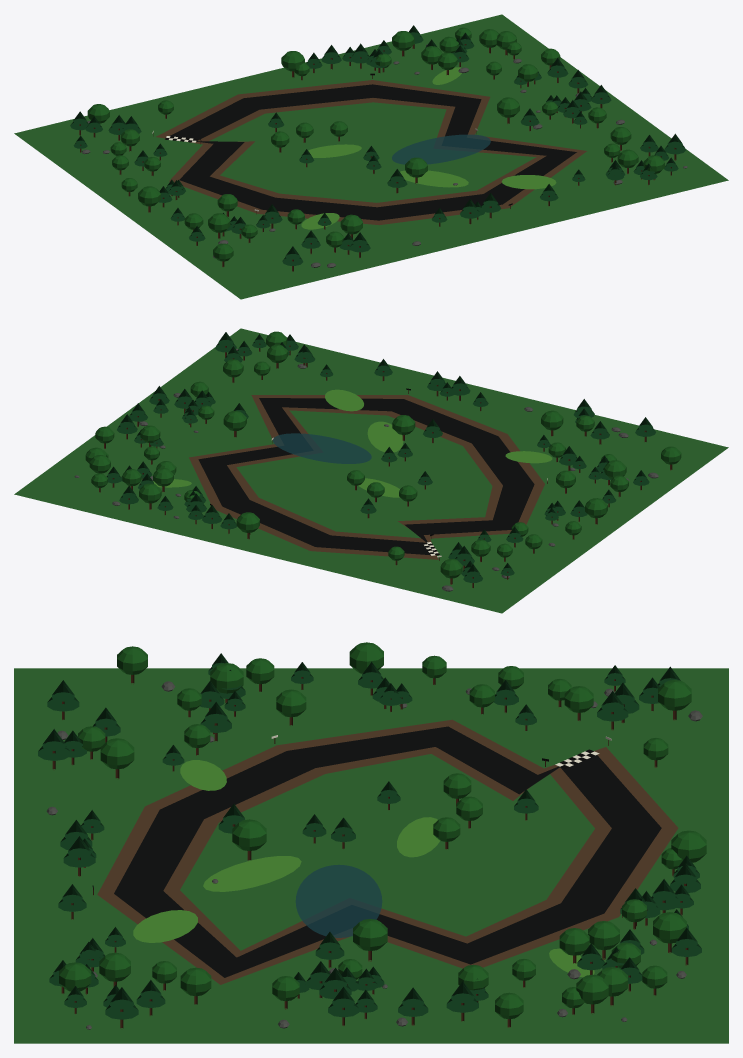
Rendered from ForestRaceTrackMap.obj.
3 views of the same model, one above another, from view 1: azimuth 30°, elevation 25°; view 2: azimuth 150°, elevation 25°; view 3: azimuth 270°, elevation 25° (orthographic). The views are drawn at different scales.
Visible parts, largest first — view 1: Forest_Ground, Asphalt_Winding_Circuit, Packed_Dirt_Shoulders, Forest_Pond, Moss_Patch_04, Moss_Patch_02, Moss_Patch_01; view 2: Forest_Ground, Asphalt_Winding_Circuit, Packed_Dirt_Shoulders, Forest_Pond, Moss_Patch_04, Moss_Patch_02; view 3: Forest_Ground, Asphalt_Winding_Circuit, Packed_Dirt_Shoulders, Forest_Pond, Moss_Patch_04, Moss_Patch_02, Moss_Patch_01, Moss_Patch_03, Tree_093_Leaf_Canopy, Tree_091_Leaf_Canopy, Tree_043_Leaf_Canopy, Tree_089_Leaf_Canopy (+13 smaller).
Boxes of the visible parts, <box> form: Forest_Ground: <box>14,14,728,299</box>; Asphalt_Winding_Circuit: <box>170,84,576,220</box>; Packed_Dirt_Shoulders: <box>156,80,586,225</box>; Forest_Pond: <box>392,134,490,164</box>; Moss_Patch_04: <box>400,170,468,187</box>; Moss_Patch_02: <box>501,175,556,189</box>; Moss_Patch_01: <box>303,144,361,157</box>; Forest_Ground: <box>14,328,728,613</box>; Asphalt_Winding_Circuit: <box>198,398,534,555</box>; Packed_Dirt_Shoulders: <box>189,395,544,559</box>; Forest_Pond: <box>272,433,371,463</box>; Moss_Patch_04: <box>367,421,403,452</box>; Moss_Patch_02: <box>325,389,363,411</box>; Forest_Ground: <box>14,668,728,1043</box>; Asphalt_Winding_Circuit: <box>114,726,661,977</box>; Packed_Dirt_Shoulders: <box>97,719,678,984</box>; Forest_Pond: <box>295,864,382,937</box>; Moss_Patch_04: <box>203,856,301,891</box>; Moss_Patch_02: <box>133,910,197,942</box>; Moss_Patch_01: <box>397,817,440,857</box>; Moss_Patch_03: <box>180,760,226,790</box>; Tree_093_Leaf_Canopy: <box>353,919,387,950</box>; Tree_091_Leaf_Canopy: <box>232,819,266,850</box>; Tree_043_Leaf_Canopy: <box>100,738,134,769</box>; Tree_089_Leaf_Canopy: <box>671,830,706,862</box>.
Bounding box in the file's own units: 164 × 8.87 × 132.
